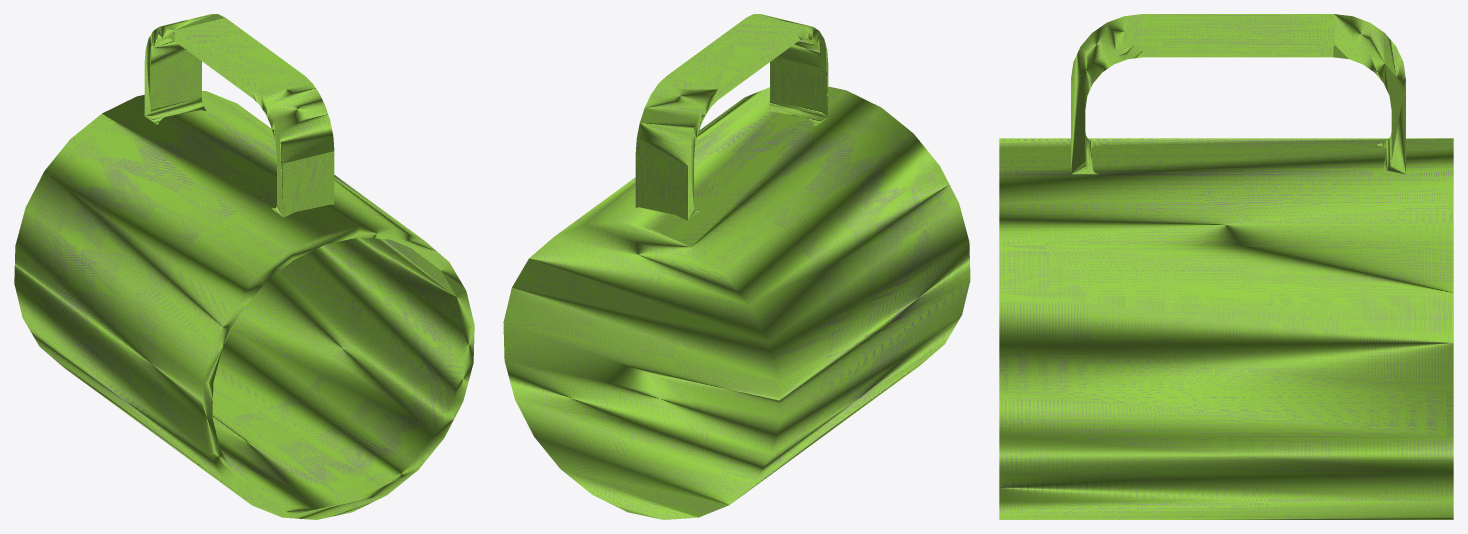
The model's file is model_align.obj.
The picture shows the model from 3 angles, left to right: view 1: azimuth 30°, elevation 25°; view 2: azimuth 150°, elevation 25°; view 3: azimuth 270°, elevation 25°; orthographic projection. The views are drawn at different scales.
Bounding box in the file's own units: 0.0876 × 0.1198 × 0.1045.
